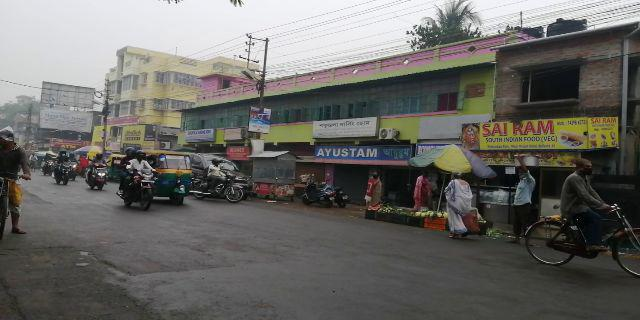Autorickshaw: (157, 150, 194, 205)
Cycle: (520, 153, 634, 274)
Motorbike: (118, 152, 156, 209), (83, 152, 109, 192), (50, 144, 72, 187)
